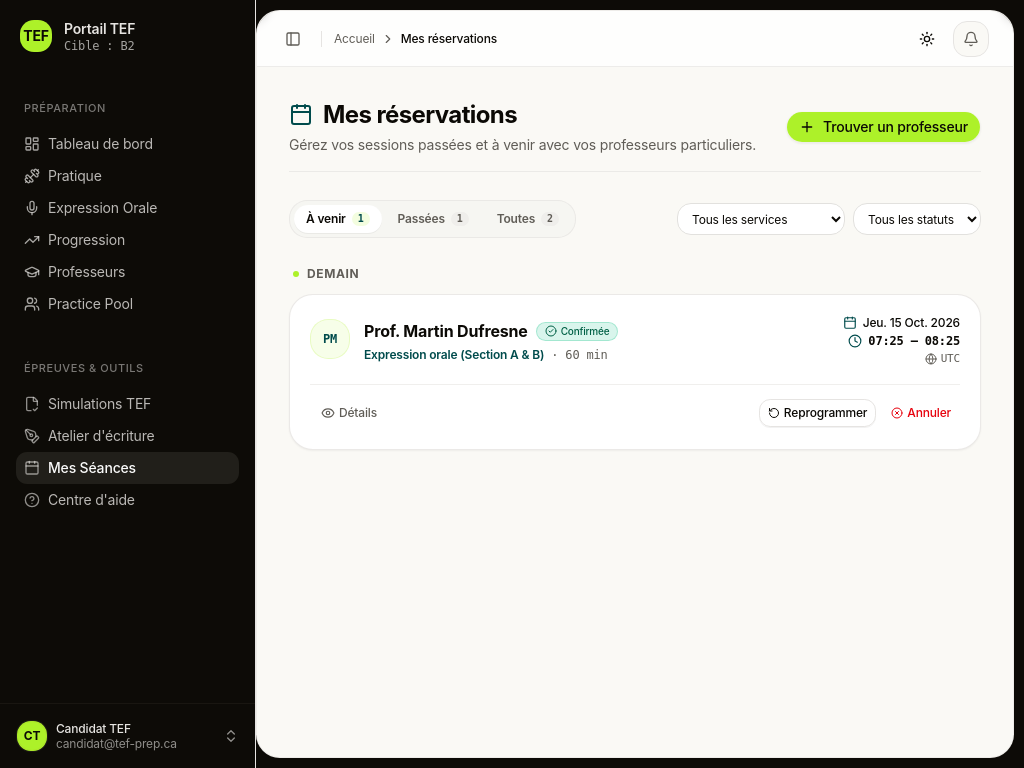
Test: Page 16 — My Bookings / Session Management (/bookings) › opens BookingDetailModal when Détails is clicked
Note: Click Détails button
What coordinates should you click on to do the following:
click the button "Détails"
I would click on:
 (349, 412)
Its box is [310,396,388,428].
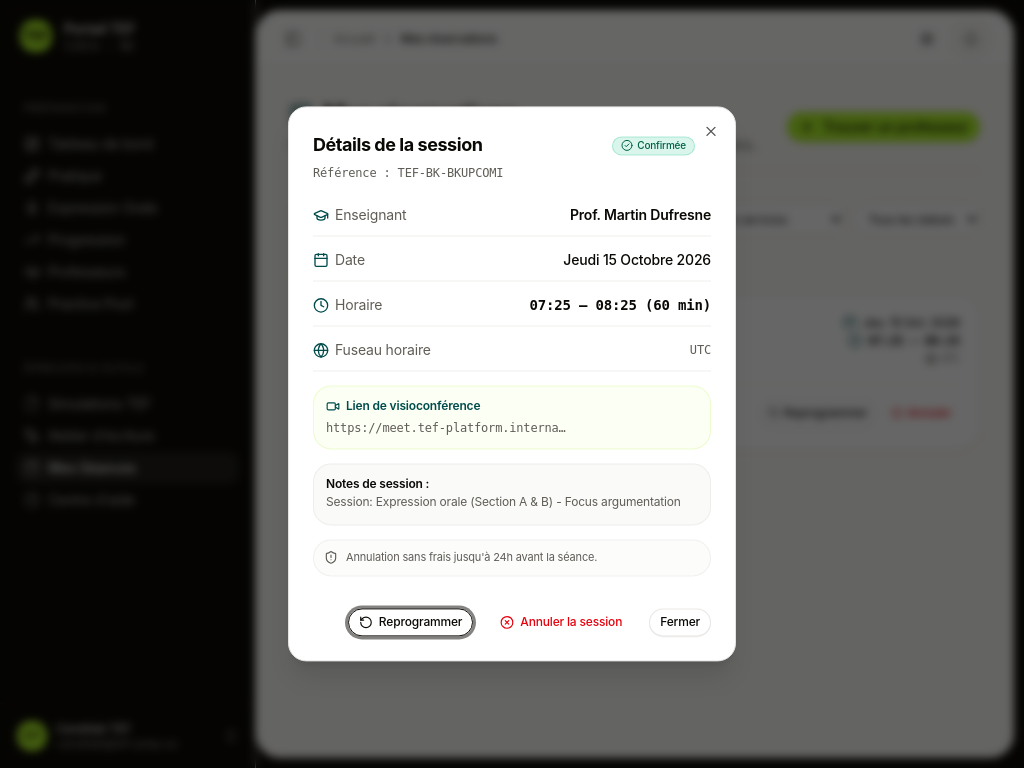
Expected: the heading "Détails de la session" is shown, [313,131,482,159]
Expected: the text "TEF-BK-" is shown, [398,166,503,180]
Expected: the text "Lien de visioconférence" is shown, [326,398,480,413]
